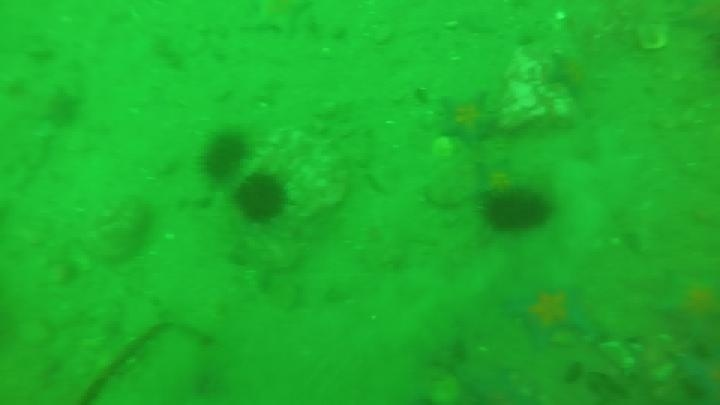echinus: (481, 186, 554, 234), (234, 172, 289, 225), (198, 130, 250, 183), (42, 90, 83, 130)
scallop: (430, 136, 457, 161)
starfish: (503, 282, 594, 349), (654, 270, 719, 345), (436, 90, 499, 147), (546, 50, 602, 102), (672, 347, 720, 403), (245, 1, 315, 39), (471, 158, 526, 200)
